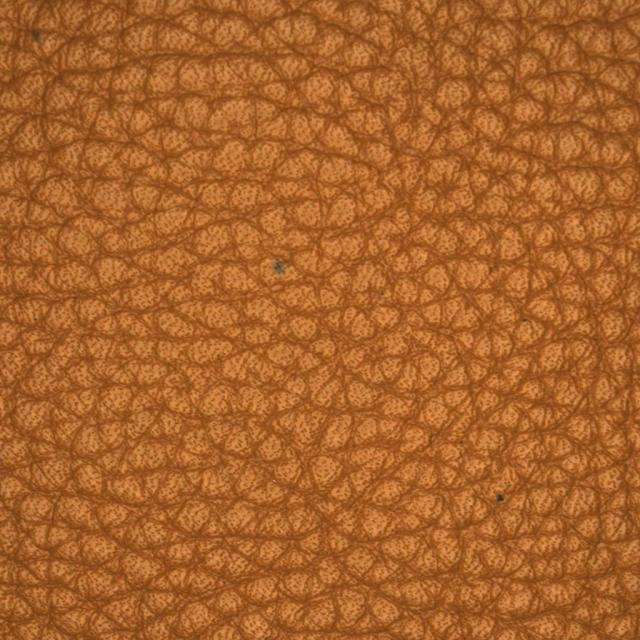pinhole: (210, 188, 356, 334), (435, 431, 571, 575)
